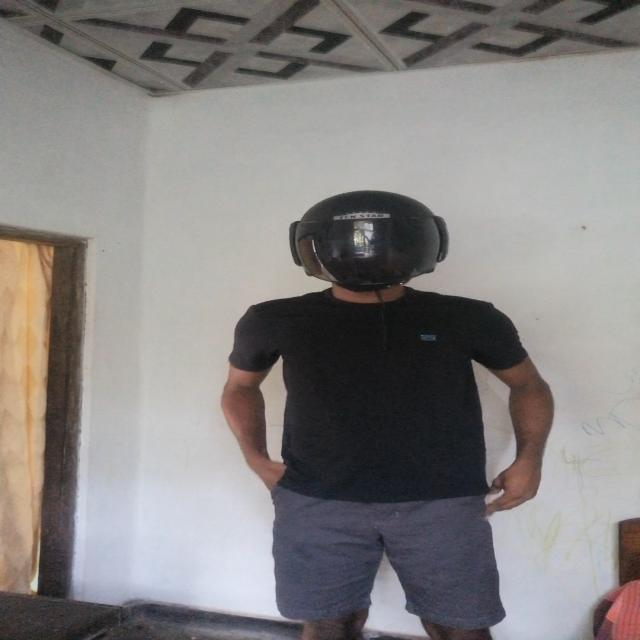Helmet_Wearer: (278, 186, 486, 311)
Person: (200, 180, 550, 640)
